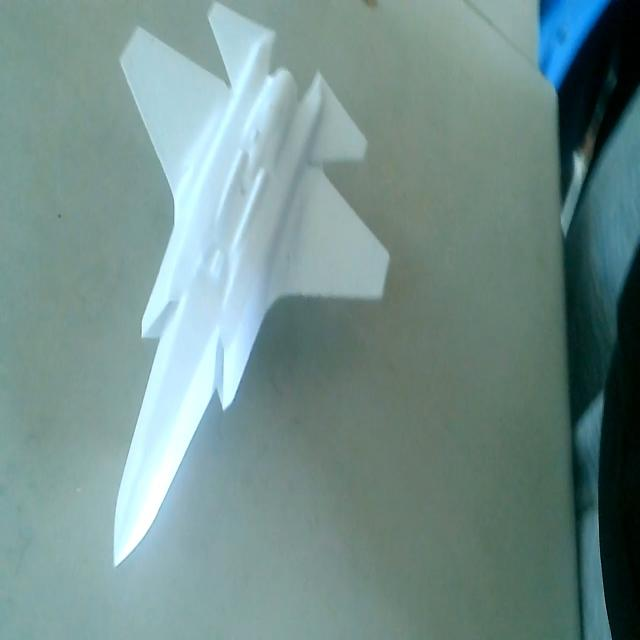Jet: (107, 4, 399, 586)
